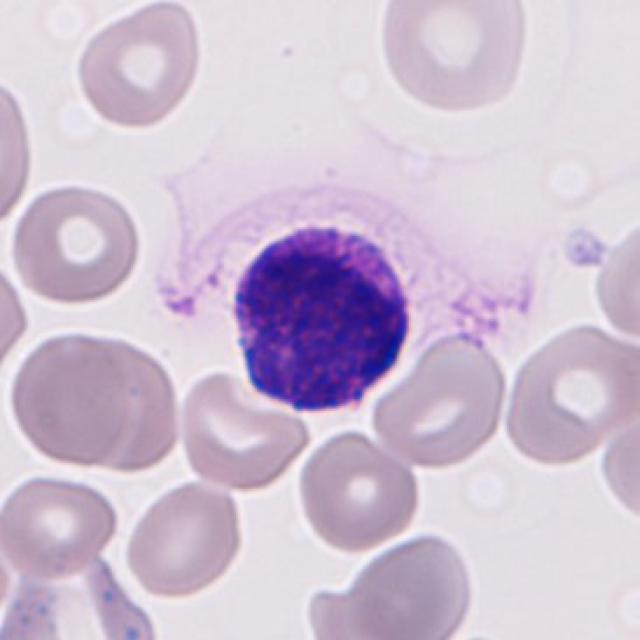Basophil: (177, 165, 444, 426)
Lymphocyte: (0, 544, 168, 640)
Platelets: (558, 224, 610, 272)
RBC: (500, 317, 638, 468), (368, 329, 512, 472), (5, 326, 135, 472), (374, 0, 534, 116), (7, 177, 147, 309), (175, 366, 315, 493), (72, 2, 208, 132), (292, 427, 425, 555), (0, 539, 168, 640), (72, 331, 185, 477), (121, 477, 248, 602), (341, 529, 477, 640), (0, 469, 122, 579), (589, 215, 640, 345), (302, 581, 414, 640), (0, 66, 38, 234), (595, 415, 638, 529), (0, 253, 31, 383), (601, 565, 640, 639), (0, 515, 14, 635), (427, 631, 530, 640)
